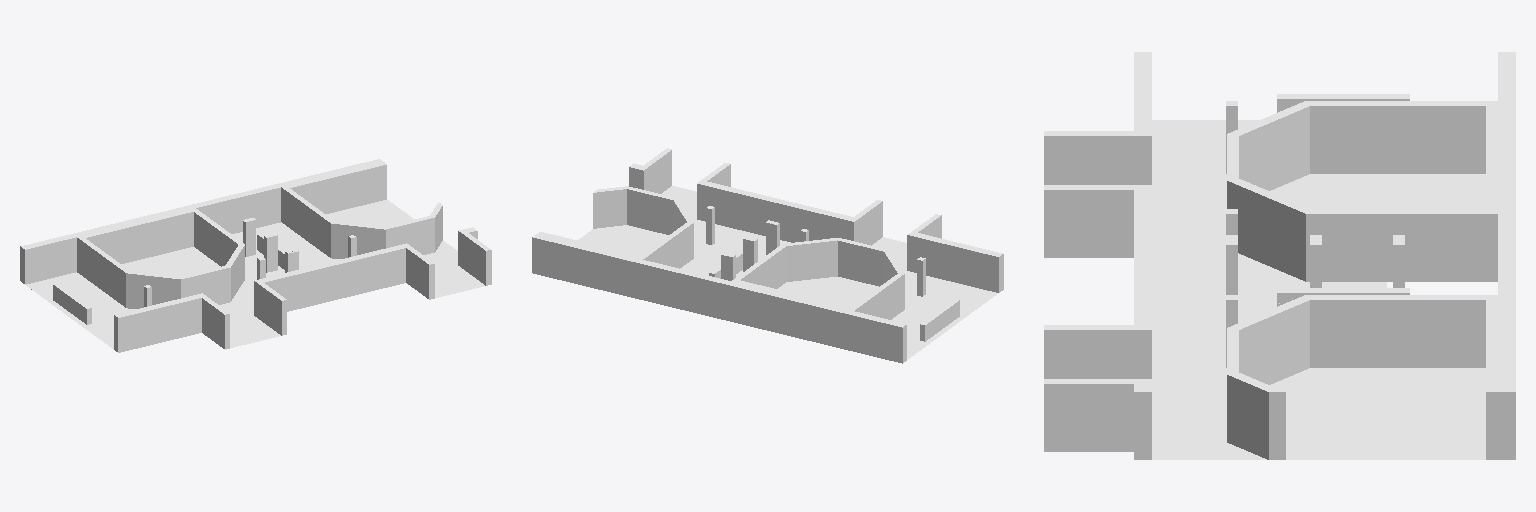
robot.urdf — 电气夹层3.0:
<?xml version="1.0" encoding="utf-8"?>
<!-- This URDF was automatically created by SolidWorks to URDF Exporter! Originally created by Stephen Brawner (brawner@gmail.com) 
     Commit Version: 1.5.1-0-g916b5db  Build Version: 1.5.7152.31018
     For more information, please see http://wiki.ros.org/sw_urdf_exporter -->
<robot
  name="电气夹层3.0">
  <link
    name="dianqiground">
    <inertial>
      <origin
        xyz="-5.02456755074236 4.0437260140032 2.45617776000711"
        rpy="0 0 0" />
      <mass
        value="8964955.13682937" />
      <inertia
        ixx="1036046482.80066"
        ixy="20572265.3999812"
        ixz="-4342.41918297833"
        iyy="2017594245.59303"
        iyz="-61952.1071978487"
        izz="3017074673.02833" />
    </inertial>
    <visual>
      <origin
        xyz="0 0 0"
        rpy="0 0 0" />
      <geometry>
        <mesh
          filename="package://电气夹层3.0/meshes/dianqiground.STL" />
      </geometry>
      <material
        name="">
        <color
          rgba="1 1 1 1" />
      </material>
    </visual>
    <collision>
      <origin
        xyz="0 0 0"
        rpy="0 0 0" />
      <geometry>
        <mesh
          filename="package://电气夹层3.0/meshes/dianqiground.STL" />
      </geometry>
    </collision>
  </link>
  <link
    name="s1">
    <inertial>
      <origin
        xyz="-0.259058262178243 0.144999598181109 0.129850451534708"
        rpy="0 0 0" />
      <mass
        value="29.8437528104335" />
      <inertia
        ixx="0.282842433706676"
        ixy="3.17555136000134E-06"
        ixz="3.03662099004193E-05"
        iyy="0.844050168513507"
        iyz="-2.51584676720716E-07"
        izz="0.87938816216385" />
    </inertial>
    <visual>
      <origin
        xyz="0 0 0"
        rpy="0 0 0" />
      <geometry>
        <mesh
          filename="package://电气夹层3.0/meshes/s1.STL" />
      </geometry>
      <material
        name="">
        <color
          rgba="1 1 1 1" />
      </material>
    </visual>
    <collision>
      <origin
        xyz="0 0 0"
        rpy="0 0 0" />
      <geometry>
        <mesh
          filename="package://电气夹层3.0/meshes/s1.STL" />
      </geometry>
    </collision>
  </link>
  <joint
    name="ds1"
    type="prismatic">
    <origin
      xyz="0.0300000000000082 4.43600000000063 1.92999999999969"
      rpy="0 0 0" />
    <parent
      link="dianqiground" />
    <child
      link="s1" />
    <axis
      xyz="1 0 0" />
    <limit
      lower="0"
      upper="0.3"
      effort="100"
      velocity="1" />
    <dynamics
      damping="0.1"
      friction="1" />
    <safety_controller
      soft_upper="3.14"
      soft_lower="-3.14"
      k_position="1"
      k_velocity="1" />
  </joint>
  <link
    name="s1r">
    <inertial>
      <origin
        xyz="-0.0078398134884905 0.000113937167924405 4.52788185612008E-05"
        rpy="0 0 0" />
      <mass
        value="0.117444421998411" />
      <inertia
        ixx="8.94477126664695E-05"
        ixy="-1.71813201464424E-07"
        ixz="-6.82788497471854E-08"
        iyy="5.52038052110814E-05"
        iyz="8.21217267530368E-07"
        izz="4.77428317663844E-05" />
    </inertial>
    <visual>
      <origin
        xyz="0 0 0"
        rpy="0 0 0" />
      <geometry>
        <mesh
          filename="package://电气夹层3.0/meshes/s1r.STL" />
      </geometry>
      <material
        name="">
        <color
          rgba="1 1 1 1" />
      </material>
    </visual>
    <collision>
      <origin
        xyz="0 0 0"
        rpy="0 0 0" />
      <geometry>
        <mesh
          filename="package://电气夹层3.0/meshes/s1r.STL" />
      </geometry>
    </collision>
  </link>
  <joint
    name="s1r"
    type="revolute">
    <origin
      xyz="0.02 0.145 0.16828"
      rpy="0 0 0" />
    <parent
      link="s1" />
    <child
      link="s1r" />
    <axis
      xyz="1 0 0" />
    <limit
      lower="-1.5708"
      upper="0"
      effort="100"
      velocity="1" />
    <dynamics
      damping="0.1"
      friction="1" />
    <safety_controller
      soft_upper="3.14"
      soft_lower="-3.14"
      k_position="1"
      k_velocity="1" />
  </joint>
  <link
    name="s1p">
    <inertial>
      <origin
        xyz="-0.00838140889091399 0.00799999999999557 0.00217884984539296"
        rpy="0 0 0" />
      <mass
        value="0.000703519534269312" />
      <inertia
        ixx="1.64325246660352E-08"
        ixy="-4.38194811760976E-24"
        ixz="9.87349732156314E-10"
        iyy="7.35697582728111E-09"
        iyz="1.83260326378982E-24"
        izz="2.09412846233985E-08" />
    </inertial>
    <visual>
      <origin
        xyz="0 0 0"
        rpy="0 0 0" />
      <geometry>
        <mesh
          filename="package://电气夹层3.0/meshes/s1p.STL" />
      </geometry>
      <material
        name="">
        <color
          rgba="1 1 1 1" />
      </material>
    </visual>
    <collision>
      <origin
        xyz="0 0 0"
        rpy="0 0 0" />
      <geometry>
        <mesh
          filename="package://电气夹层3.0/meshes/s1p.STL" />
      </geometry>
    </collision>
  </link>
  <joint
    name="s1p"
    type="prismatic">
    <origin
      xyz="0.0690000000000008 0.222000000000001 0.120999999999981"
      rpy="0 0 0" />
    <parent
      link="s1" />
    <child
      link="s1p" />
    <axis
      xyz="1 0 0" />
    <limit
      lower="-0.03"
      upper="0"
      effort="100"
      velocity="1" />
    <dynamics
      damping="0.1"
      friction="1" />
    <safety_controller
      soft_upper="3.14"
      soft_lower="-3.14"
      k_position="1"
      k_velocity="1" />
  </joint>
  <link
    name="s2">
    <inertial>
      <origin
        xyz="-0.259058262178245 0.144999598181109 0.129850451534708"
        rpy="0 0 0" />
      <mass
        value="29.8437528104335" />
      <inertia
        ixx="0.282842433706676"
        ixy="3.17555135999982E-06"
        ixz="3.03662099004198E-05"
        iyy="0.844050168513507"
        iyz="-2.51584676720718E-07"
        izz="0.87938816216385" />
    </inertial>
    <visual>
      <origin
        xyz="0 0 0"
        rpy="0 0 0" />
      <geometry>
        <mesh
          filename="package://电气夹层3.0/meshes/s2.STL" />
      </geometry>
      <material
        name="">
        <color
          rgba="1 1 1 1" />
      </material>
    </visual>
    <collision>
      <origin
        xyz="0 0 0"
        rpy="0 0 0" />
      <geometry>
        <mesh
          filename="package://电气夹层3.0/meshes/s2.STL" />
      </geometry>
    </collision>
  </link>
  <joint
    name="ds2"
    type="prismatic">
    <origin
      xyz="0.0300000000000065 4.07400000000064 1.3899999999997"
      rpy="0 0 0" />
    <parent
      link="dianqiground" />
    <child
      link="s2" />
    <axis
      xyz="1 0 0" />
    <limit
      lower="0"
      upper="0.3"
      effort="100"
      velocity="1" />
    <dynamics
      damping="0.1"
      friction="1" />
    <safety_controller
      soft_upper="3.14"
      soft_lower="-3.14"
      k_position="1"
      k_velocity="1" />
  </joint>
  <link
    name="s2r">
    <inertial>
      <origin
        xyz="-0.0078398134884905 0.000113937167924405 4.52788185612008E-05"
        rpy="0 0 0" />
      <mass
        value="0.117444421998411" />
      <inertia
        ixx="8.94477126664695E-05"
        ixy="-1.71813201464424E-07"
        ixz="-6.82788497471854E-08"
        iyy="5.52038052110814E-05"
        iyz="8.21217267530368E-07"
        izz="4.77428317663844E-05" />
    </inertial>
    <visual>
      <origin
        xyz="0 0 0"
        rpy="0 0 0" />
      <geometry>
        <mesh
          filename="package://电气夹层3.0/meshes/s2r.STL" />
      </geometry>
      <material
        name="">
        <color
          rgba="1 1 1 1" />
      </material>
    </visual>
    <collision>
      <origin
        xyz="0 0 0"
        rpy="0 0 0" />
      <geometry>
        <mesh
          filename="package://电气夹层3.0/meshes/s2r.STL" />
      </geometry>
    </collision>
  </link>
  <joint
    name="s2r"
    type="revolute">
    <origin
      xyz="0.02 0.145 0.16828"
      rpy="0 0 0" />
    <parent
      link="s2" />
    <child
      link="s2r" />
    <axis
      xyz="1 0 0" />
    <limit
      lower="-1.5708"
      upper="0"
      effort="100"
      velocity="1" />
    <dynamics
      damping="0.1"
      friction="1" />
    <safety_controller
      soft_upper="3.14"
      soft_lower="-3.14"
      k_position="1"
      k_velocity="1" />
  </joint>
  <link
    name="s2p">
    <inertial>
      <origin
        xyz="-0.0083814088909131 0.00800000000000267 0.00217884984542138"
        rpy="0 0 0" />
      <mass
        value="0.000703519534269312" />
      <inertia
        ixx="1.64325246660352E-08"
        ixy="-4.38194811760976E-24"
        ixz="9.87349732156314E-10"
        iyy="7.35697582728111E-09"
        iyz="1.83260326378982E-24"
        izz="2.09412846233985E-08" />
    </inertial>
    <visual>
      <origin
        xyz="0 0 0"
        rpy="0 0 0" />
      <geometry>
        <mesh
          filename="package://电气夹层3.0/meshes/s2p.STL" />
      </geometry>
      <material
        name="">
        <color
          rgba="1 1 1 1" />
      </material>
    </visual>
    <collision>
      <origin
        xyz="0 0 0"
        rpy="0 0 0" />
      <geometry>
        <mesh
          filename="package://电气夹层3.0/meshes/s2p.STL" />
      </geometry>
    </collision>
  </link>
  <joint
    name="s2p"
    type="prismatic">
    <origin
      xyz="0.0690000000000008 0.222000000000001 0.120999999999981"
      rpy="0 0 0" />
    <parent
      link="s2" />
    <child
      link="s2p" />
    <axis
      xyz="1 0 0" />
    <limit
      lower="-0.03"
      upper="0"
      effort="100"
      velocity="1" />
    <dynamics
      damping="0.1"
      friction="1" />
    <safety_controller
      soft_upper="3.14"
      soft_lower="-3.14"
      k_position="1"
      k_velocity="1" />
  </joint>
  <link
    name="b1">
    <inertial>
      <origin
        xyz="-0.262953261718849 0.35302697675862 0.119993047118072"
        rpy="0 0 0" />
      <mass
        value="80.6316495847304" />
      <inertia
        ixx="3.49966593283979"
        ixy="-0.000583459461728248"
        ixz="0.000150378509414026"
        iyy="2.23670327058486"
        iyz="0.000100255906615888"
        izz="5.07862492616254" />
    </inertial>
    <visual>
      <origin
        xyz="0 0 0"
        rpy="0 0 0" />
      <geometry>
        <mesh
          filename="package://电气夹层3.0/meshes/b1.STL" />
      </geometry>
      <material
        name="">
        <color
          rgba="1 1 1 1" />
      </material>
    </visual>
    <collision>
      <origin
        xyz="0 0 0"
        rpy="0 0 0" />
      <geometry>
        <mesh
          filename="package://电气夹层3.0/meshes/b1.STL" />
      </geometry>
    </collision>
  </link>
  <joint
    name="db1"
    type="prismatic">
    <origin
      xyz="0.0300000000000047 4.04700000000064 0.831870606203722"
      rpy="0 0 0" />
    <parent
      link="dianqiground" />
    <child
      link="b1" />
    <axis
      xyz="1 0 0" />
    <limit
      lower="0"
      upper="0.3"
      effort="100"
      velocity="1" />
    <dynamics
      damping="0.1"
      friction="1" />
    <safety_controller
      soft_upper="3.14"
      soft_lower="-3.14"
      k_position="100"
      k_velocity="1" />
  </joint>
  <link
    name="b1r">
    <inertial>
      <origin
        xyz="-0.0129826274339182 -6.14039005313316E-05 -1.71263443746739E-05"
        rpy="0 0 0" />
      <mass
        value="0.167713475604662" />
      <inertia
        ixx="0.000129661188473554"
        ixy="1.85189801079827E-07"
        ixz="5.16518377567576E-08"
        iyy="8.61897641551603E-05"
        iyz="-7.24282931231804E-10"
        izz="7.8541346534438E-05" />
    </inertial>
    <visual>
      <origin
        xyz="0 0 0"
        rpy="0 0 0" />
      <geometry>
        <mesh
          filename="package://电气夹层3.0/meshes/b1r.STL" />
      </geometry>
      <material
        name="">
        <color
          rgba="1 1 1 1" />
      </material>
    </visual>
    <collision>
      <origin
        xyz="0 0 0"
        rpy="0 0 0" />
      <geometry>
        <mesh
          filename="package://电气夹层3.0/meshes/b1r.STL" />
      </geometry>
    </collision>
  </link>
  <joint
    name="b1r"
    type="revolute">
    <origin
      xyz="0.03 0.16661 0.12017"
      rpy="0 0 0" />
    <parent
      link="b1" />
    <child
      link="b1r" />
    <axis
      xyz="1 0 0" />
    <limit
      lower="-1.5708"
      upper="0"
      effort="100"
      velocity="1" />
    <dynamics
      damping="0.1"
      friction="1" />
    <safety_controller
      soft_upper="3.14"
      soft_lower="-3.14"
      k_position="1"
      k_velocity="1" />
  </joint>
  <link
    name="b1p">
    <inertial>
      <origin
        xyz="-0.0083814088909131 0.00800000000000267 0.00217884984536454"
        rpy="0 0 0" />
      <mass
        value="0.000703519534269312" />
      <inertia
        ixx="1.64325246660352E-08"
        ixy="-4.38194811760829E-24"
        ixz="9.87349732156315E-10"
        iyy="7.35697582728111E-09"
        iyz="1.83260326378991E-24"
        izz="2.09412846233985E-08" />
    </inertial>
    <visual>
      <origin
        xyz="0 0 0"
        rpy="0 0 0" />
      <geometry>
        <mesh
          filename="package://电气夹层3.0/meshes/b1p.STL" />
      </geometry>
      <material
        name="">
        <color
          rgba="1 1 1 1" />
      </material>
    </visual>
    <collision>
      <origin
        xyz="0 0 0"
        rpy="0 0 0" />
      <geometry>
        <mesh
          filename="package://电气夹层3.0/meshes/b1p.STL" />
      </geometry>
    </collision>
  </link>
  <joint
    name="b1p"
    type="prismatic">
    <origin
      xyz="0.0690000000000026 0.637999999999998 0.168000000000006"
      rpy="0 0 0" />
    <parent
      link="b1" />
    <child
      link="b1p" />
    <axis
      xyz="1 0 0" />
    <limit
      lower="-0.03"
      upper="0"
      effort="100"
      velocity="1" />
    <dynamics
      damping="0.1"
      friction="1" />
    <safety_controller
      soft_upper="3.14"
      soft_lower="-3.14"
      k_position="1"
      k_velocity="1" />
  </joint>
  <link
    name="s3">
    <inertial>
      <origin
        xyz="-0.259058262178251 0.145066060599952 0.129850451534622"
        rpy="0 0 0" />
      <mass
        value="29.843752810436" />
      <inertia
        ixx="0.282842433706723"
        ixy="3.17555135733237E-06"
        ixz="3.0366209881271E-05"
        iyy="0.844050168513594"
        iyz="-2.51584676814485E-07"
        izz="0.879388162163914" />
    </inertial>
    <visual>
      <origin
        xyz="0 0 0"
        rpy="0 0 0" />
      <geometry>
        <mesh
          filename="package://电气夹层3.0/meshes/s3.STL" />
      </geometry>
      <material
        name="">
        <color
          rgba="1 1 1 1" />
      </material>
    </visual>
    <collision>
      <origin
        xyz="0 0 0"
        rpy="0 0 0" />
      <geometry>
        <mesh
          filename="package://电气夹层3.0/meshes/s3.STL" />
      </geometry>
    </collision>
  </link>
  <joint
    name="ds3"
    type="prismatic">
    <origin
      xyz="0.0299999999991529 5.23599999999988 1.38499999999985"
      rpy="0 0 0" />
    <parent
      link="dianqiground" />
    <child
      link="s3" />
    <axis
      xyz="1 0 0" />
    <limit
      lower="0"
      upper="0.3"
      effort="100"
      velocity="1" />
    <dynamics
      damping="0.1"
      friction="1" />
    <safety_controller
      soft_upper="3.14"
      soft_lower="-3.14"
      k_position="1"
      k_velocity="1" />
  </joint>
  <link
    name="s3r">
    <inertial>
      <origin
        xyz="-0.00783981348848872 0.000113937167924405 4.5278818532779E-05"
        rpy="0 0 0" />
      <mass
        value="0.11744442199841" />
      <inertia
        ixx="8.94477126664695E-05"
        ixy="-1.71813201464204E-07"
        ixz="-6.82788497471262E-08"
        iyy="5.52038052110812E-05"
        iyz="8.21217267530342E-07"
        izz="4.77428317663844E-05" />
    </inertial>
    <visual>
      <origin
        xyz="0 0 0"
        rpy="0 0 0" />
      <geometry>
        <mesh
          filename="package://电气夹层3.0/meshes/s3r.STL" />
      </geometry>
      <material
        name="">
        <color
          rgba="1 1 1 1" />
      </material>
    </visual>
    <collision>
      <origin
        xyz="0 0 0"
        rpy="0 0 0" />
      <geometry>
        <mesh
          filename="package://电气夹层3.0/meshes/s3r.STL" />
      </geometry>
    </collision>
  </link>
  <joint
    name="s3r"
    type="revolute">
    <origin
      xyz="0.02 0.145 0.16828"
      rpy="0 0 0" />
    <parent
      link="s3" />
    <child
      link="s3r" />
    <axis
      xyz="1 0 0" />
    <limit
      lower="-1.5708"
      upper="0"
      effort="100"
      velocity="1" />
    <dynamics
      damping="0.1"
      friction="1" />
    <safety_controller
      soft_upper="3.14"
      soft_lower="-3.14"
      k_position="1"
      k_velocity="1" />
  </joint>
  <link
    name="s3p">
    <inertial>
      <origin
        xyz="-0.00838140889090333 0.00800000000000267 0.00217884984536454"
        rpy="0 0 0" />
      <mass
        value="0.000703519534271014" />
      <inertia
        ixx="1.64325246660909E-08"
        ixy="1.0378023724909E-22"
        ixz="9.87349732159352E-10"
        iyy="7.35697582732421E-09"
        iyz="4.03911491543194E-23"
        izz="2.09412846234931E-08" />
    </inertial>
    <visual>
      <origin
        xyz="0 0 0"
        rpy="0 0 0" />
      <geometry>
        <mesh
          filename="package://电气夹层3.0/meshes/s3p.STL" />
      </geometry>
      <material
        name="">
        <color
          rgba="1 1 1 1" />
      </material>
    </visual>
    <collision>
      <origin
        xyz="0 0 0"
        rpy="0 0 0" />
      <geometry>
        <mesh
          filename="package://电气夹层3.0/meshes/s3p.STL" />
      </geometry>
    </collision>
  </link>
  <joint
    name="s3p"
    type="prismatic">
    <origin
      xyz="0.069 0.274 0.121"
      rpy="0 0 0" />
    <parent
      link="s3" />
    <child
      link="s3p" />
    <axis
      xyz="-1 0 0" />
    <limit
      lower="-0.03"
      upper="0"
      effort="100"
      velocity="1" />
    <dynamics
      damping="0.1"
      friction="1" />
    <safety_controller
      soft_upper="3.14"
      soft_lower="-3.14"
      k_position="1"
      k_velocity="1" />
  </joint>
  <link
    name="m1">
    <inertial>
      <origin
        xyz="-0.261012016335981 0.353062659983848 0.0600106259651625"
        rpy="0 0 0" />
      <mass
        value="36.9309689062749" />
      <inertia
        ixx="1.48283801198731"
        ixy="-0.000616992320384629"
        ixz="-0.000104630395461347"
        iyy="0.913664193501799"
        iyz="-6.93981770769649E-05"
        izz="2.33302858073162" />
    </inertial>
    <visual>
      <origin
        xyz="0 0 0"
        rpy="0 0 0" />
      <geometry>
        <mesh
          filename="package://电气夹层3.0/meshes/m1.STL" />
      </geometry>
      <material
        name="">
        <color
          rgba="1 1 1 1" />
      </material>
    </visual>
    <collision>
      <origin
        xyz="0 0 0"
        rpy="0 0 0" />
      <geometry>
        <mesh
          filename="package://电气夹层3.0/meshes/m1.STL" />
      </geometry>
    </collision>
  </link>
  <joint
    name="dm1"
    type="prismatic">
    <origin
      xyz="0.0299999999991538 4.84699999999987 0.89499999999984"
      rpy="0 0 0" />
    <parent
      link="dianqiground" />
    <child
      link="m1" />
    <axis
      xyz="1 0 0" />
    <limit
      lower="0"
      upper="0.3"
      effort="100"
      velocity="1" />
    <dynamics
      damping="0.1"
      friction="1" />
    <safety_controller
      soft_upper="3.14"
      soft_lower="-3.14"
      k_position="1"
      k_velocity="1" />
  </joint>
  <link
    name="m1r">
    <inertial>
      <origin
        xyz="-0.0129826274339182 -6.14039005313316E-05 -1.71263443746739E-05"
        rpy="0 0 0" />
      <mass
        value="0.167713475604664" />
      <inertia
        ixx="0.000129661188473555"
        ixy="1.85189801080065E-07"
        ixz="5.16518377576092E-08"
        iyy="8.6189764155161E-05"
        iyz="-7.24282931216588E-10"
        izz="7.85413465344389E-05" />
    </inertial>
    <visual>
      <origin
        xyz="0 0 0"
        rpy="0 0 0" />
      <geometry>
        <mesh
          filename="package://电气夹层3.0/meshes/m1r.STL" />
      </geometry>
      <material
        name="">
        <color
          rgba="1 1 1 1" />
      </material>
    </visual>
    <collision>
      <origin
        xyz="0 0 0"
        rpy="0 0 0" />
      <geometry>
        <mesh
          filename="package://电气夹层3.0/meshes/m1r.STL" />
      </geometry>
    </collision>
  </link>
  <joint
    name="m1r"
    type="revolute">
    <origin
      xyz="0.03 0.16661 0.060175"
      rpy="0 0 0" />
    <parent
      link="m1" />
    <child
      link="m1r" />
    <axis
      xyz="1 0 0" />
    <limit
      lower="-1.5708"
      upper="0"
      effort="100"
      velocity="1" />
    <dynamics
      damping="0.1"
      friction="1" />
    <safety_controller
      soft_upper="3.14"
      soft_lower="-3.14"
      k_position="1"
      k_velocity="1" />
  </joint>
  <link
    name="m1p">
    <inertial>
      <origin
        xyz="-0.00838140889090422 0.00799999999999557 0.00217884984542138"
        rpy="0 0 0" />
      <mass
        value="0.000703519534271014" />
      <inertia
        ixx="1.64325246660909E-08"
        ixy="1.0378023724909E-22"
        ixz="9.87349732159352E-10"
        iyy="7.35697582732421E-09"
        iyz="4.03911491543194E-23"
        izz="2.09412846234931E-08" />
    </inertial>
    <visual>
      <origin
        xyz="0 0 0"
        rpy="0 0 0" />
      <geometry>
        <mesh
          filename="package://电气夹层3.0/meshes/m1p.STL" />
      </geometry>
      <material
        name="">
        <color
          rgba="1 1 1 1" />
      </material>
    </visual>
    <collision>
      <origin
        xyz="0 0 0"
        rpy="0 0 0" />
      <geometry>
        <mesh
          filename="package://电气夹层3.0/meshes/m1p.STL" />
      </geometry>
    </collision>
  </link>
  <joint
    name="m1p"
    type="prismatic">
    <origin
      xyz="0.0689999999999982 0.638000000000005 0.108000000000004"
      rpy="0 0 0" />
    <parent
      link="m1" />
    <child
      link="m1p" />
    <axis
      xyz="-1 0 0" />
    <limit
      lower="-0.03"
      upper="0"
      effort="100"
      velocity="1" />
    <dynamics
      damping="0.1"
      friction="1" />
    <safety_controller
      soft_upper="3.14"
      soft_lower="-3.14"
      k_position="1"
      k_velocity="1" />
  </joint>
</robot>

--- What the picture shows (computed from the rendered views, not written in the file) ---
The picture shows the robot from 3 angles, left to right: view 1: azimuth 30°, elevation 25°; view 2: azimuth 150°, elevation 25°; view 3: azimuth 270°, elevation 25°; orthographic projection.
Robot: 电气夹层3.0 — 16 links, 15 joints (5 revolute, 10 prismatic); root link dianqiground; default pose: every joint at zero.
Visible links, largest first — view 1: dianqiground; view 2: dianqiground; view 3: dianqiground.
Link boxes in pixels (bbox=[...]): dianqiground: bbox=[20, 159, 491, 352]; dianqiground: bbox=[532, 148, 1003, 363]; dianqiground: bbox=[1044, 52, 1515, 459].
Bounding box of the posed robot: 53.75 × 31.4 × 5 m (x, y, z).
11 mesh visuals loaded from 16 distinct referenced files (11 binary STL); not drawn: 5 (reference not matched to a file when rendering).
